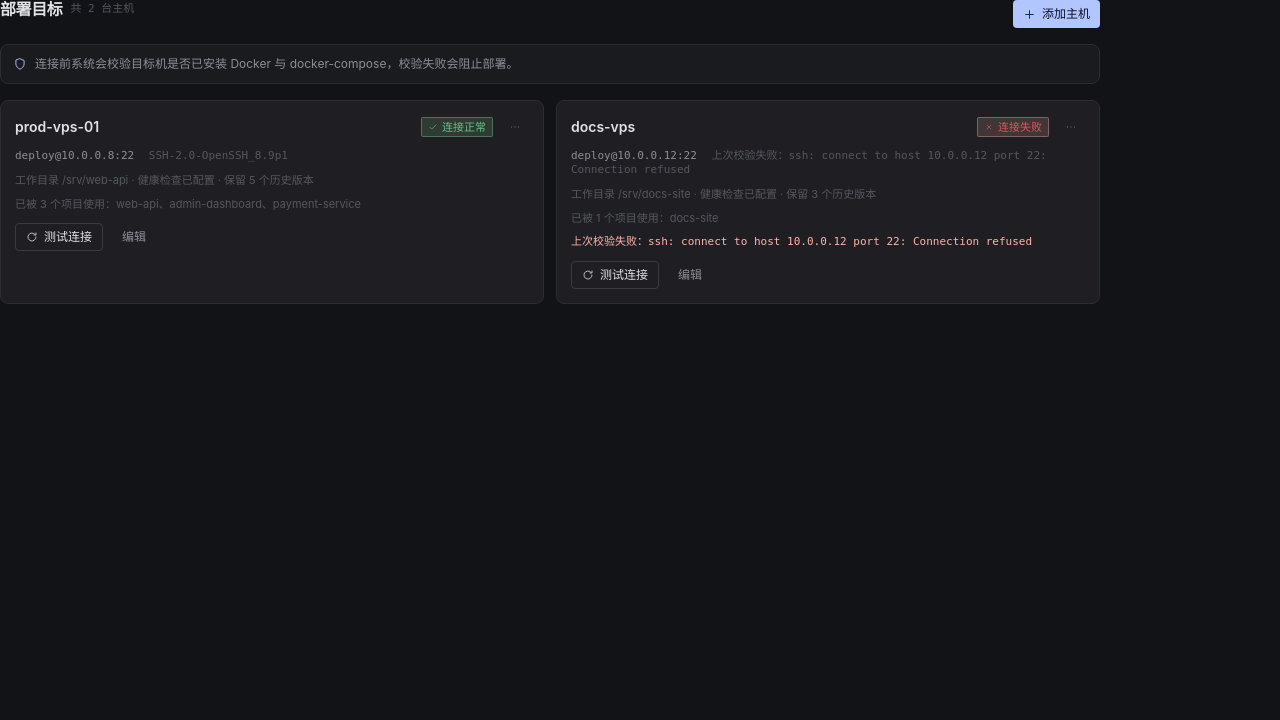
Test: DeploymentTargetsView › 添加主机抽屉：默认收起，点开显示全部表单字段
Click the button "添加主机" at coordinates (1056, 14), box [1013,0,1100,28]
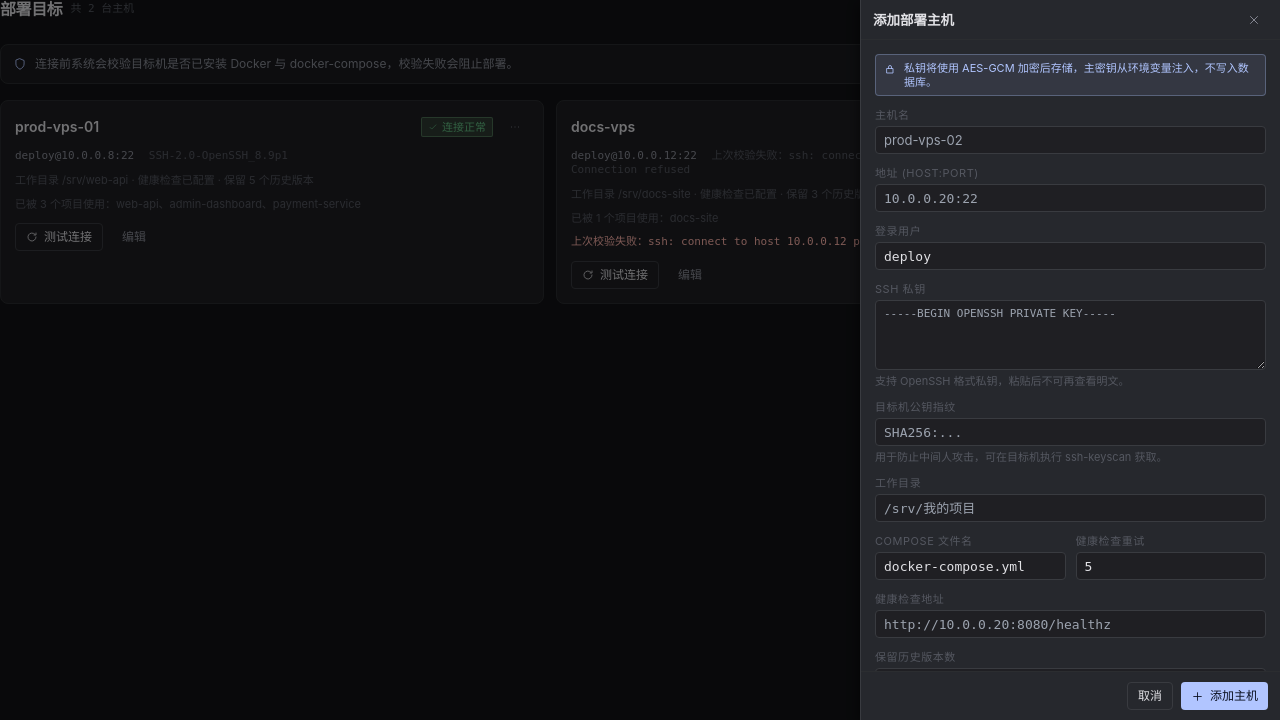
Result: the dialog is shown at [860,0,1279,719]
Result: the dialog shows "主机名" at [875,108,910,122]
Result: the dialog shows "地址 (host:port)" at [875,166,979,180]
